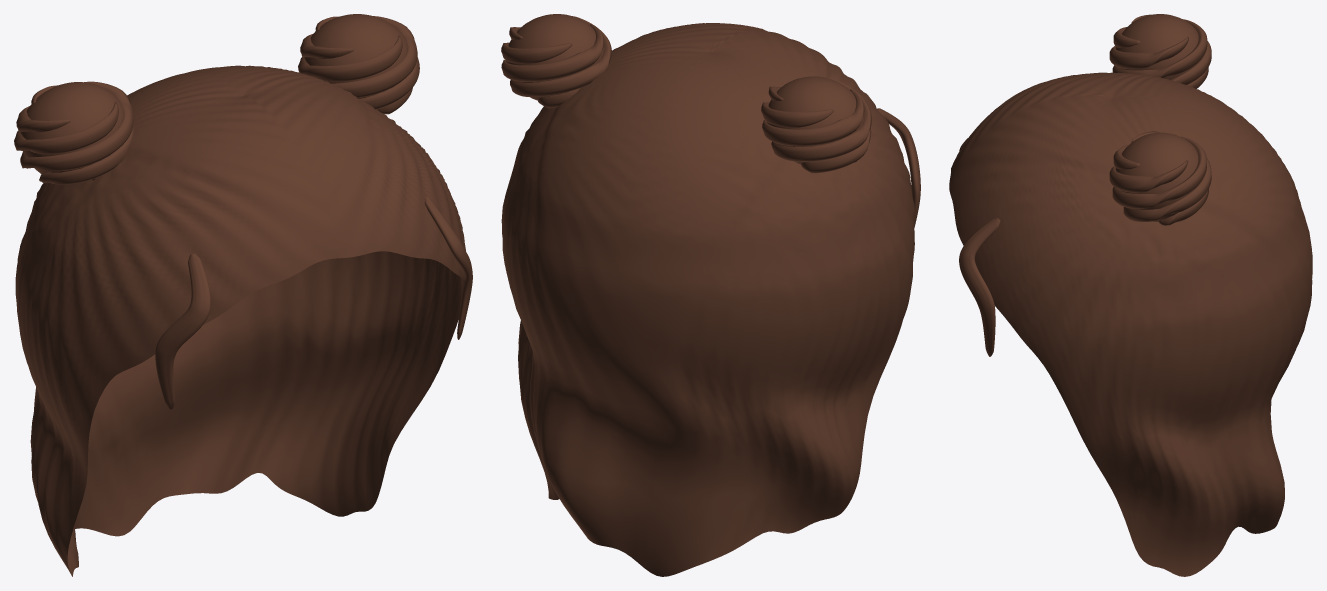
The model's file is space-buns-ears.glb.
The picture shows the model from 3 angles, left to right: view 1: azimuth 30°, elevation 25°; view 2: azimuth 150°, elevation 25°; view 3: azimuth 270°, elevation 25°; orthographic projection. The views are drawn at different scales.
Visible parts, largest first — view 1: 226 hair / Hair / chestnut226.001; view 2: 226 hair / Hair / chestnut226.001; view 3: 226 hair / Hair / chestnut226.001.
Boxes of the visible parts, box(x1,y1,x2,y2) form: 226 hair / Hair / chestnut226.001: box(14, 14, 472, 576); 226 hair / Hair / chestnut226.001: box(501, 14, 920, 576); 226 hair / Hair / chestnut226.001: box(949, 14, 1312, 576).
Size of the model in its own units: 0.8048 by 1.01 by 0.7316.
